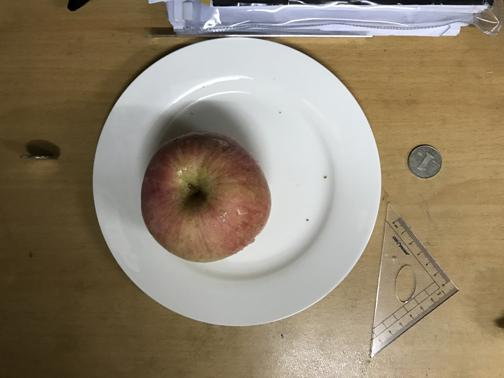apple: (138, 133, 272, 262)
coin: (407, 142, 442, 179)
